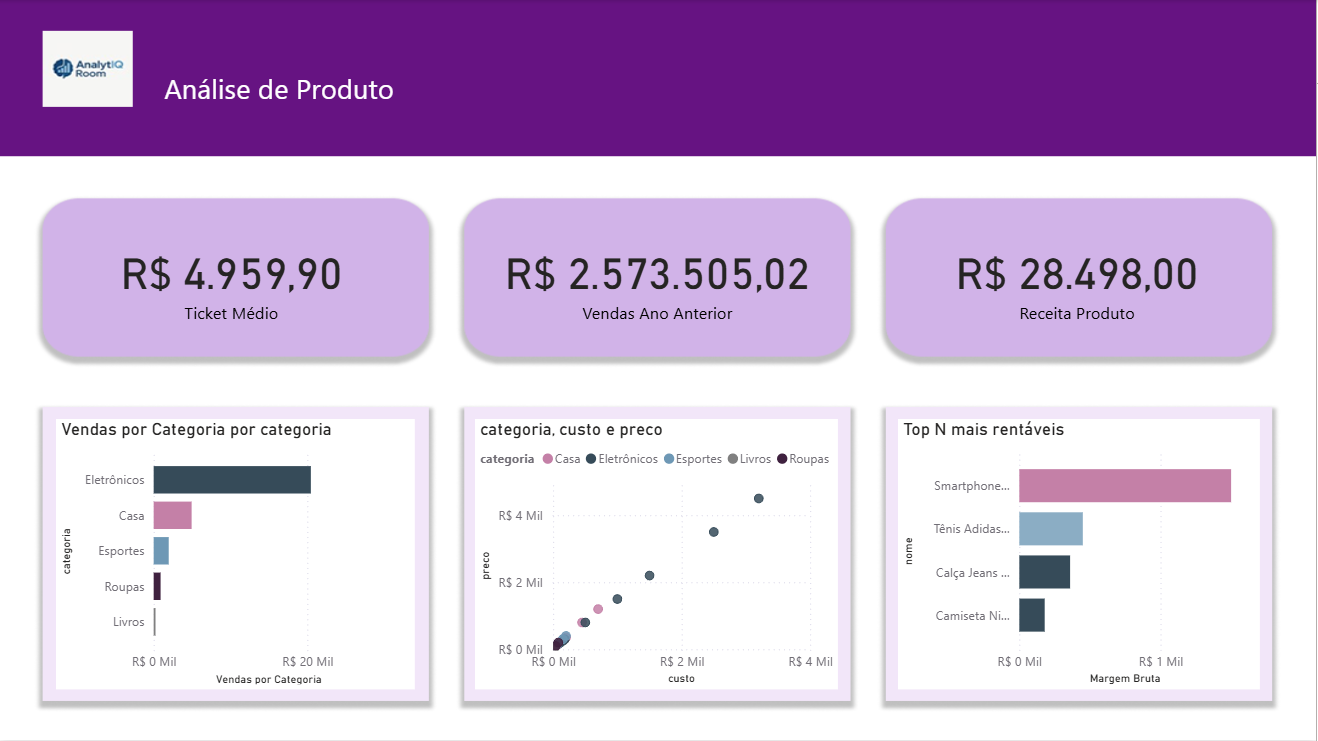

This screenshot's page, from the dashboard's own definition file:
{"tool":"powerbi","page":{"name":"Análise de Produto","canvas":[1280,720],"ordinal":0},"visuals":[{"type":"clusteredBarChart","title":"Top N mais rentáveis","fields":{"Category":["produtos.nome"],"Y":["itens_venda.Margem Bruta"]},"box":[873,408,352,263],"z":0},{"type":"scatterChart","fields":{"X":["produtos.custo"],"Y":["produtos.preco"],"Series":["produtos.categoria"]},"box":[462,408,353,263],"z":1000},{"type":"barChart","fields":{"Category":["produtos.categoria"],"Y":["produtos.Vendas por Categoria"]},"box":[54.2,407.5,349.2,263.3],"z":2000},{"type":"card","fields":{"Values":["vendas.Ticket Médio"]},"box":[47.5,196.2,355,151.2],"z":3000},{"type":"card","fields":{"Values":["vendas.Vendas Ano Anterior"]},"box":[452.3,200.4,374.5,144],"z":4000},{"type":"textbox","box":[155,62.5,410,52.5],"z":5000},{"type":"card","fields":{"Values":["produtos.Receita Produto"]},"box":[861.2,200,373.8,143.8],"z":6000}]}

Visuals, with their boxes in screenshot pixels (x1, y1, x2, y2), scaled from the page's 1280x720 canvas onto the 1318x741 screenshot:
"Top N mais rentáveis" clusteredBarChart: box(899, 420, 1261, 691)
scatterChart - produtos.custo x produtos.preco: box(476, 420, 839, 691)
barChart - produtos.categoria x produtos.Vendas por Categoria: box(56, 419, 415, 690)
card - vendas.Ticket Médio: box(49, 202, 414, 358)
card - vendas.Vendas Ano Anterior: box(466, 206, 851, 354)
textbox: box(160, 64, 582, 118)
card - produtos.Receita Produto: box(887, 206, 1272, 354)
